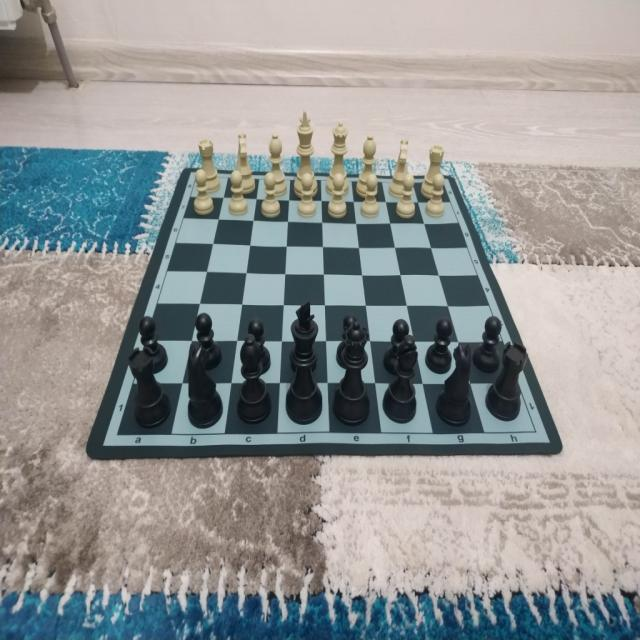corner: (524, 420, 546, 443), (110, 427, 124, 442)
